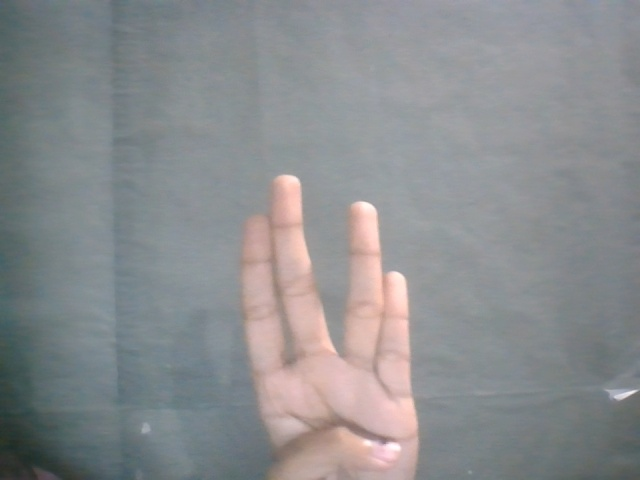LiveLong: (224, 170, 425, 480)
